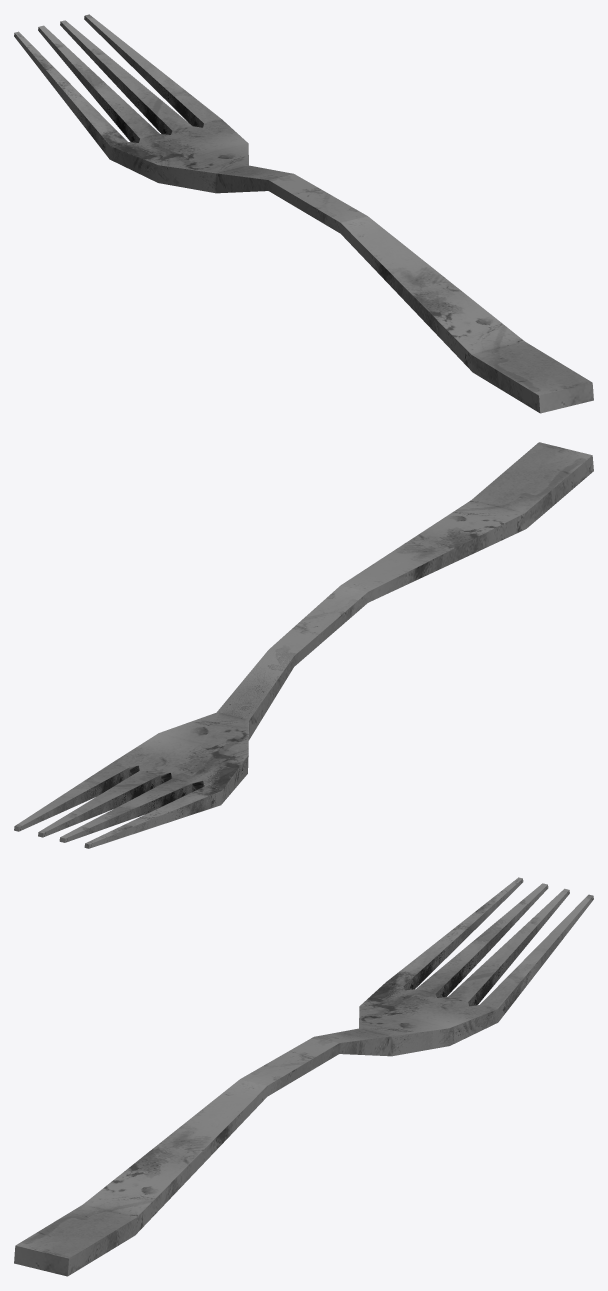
Rendered from Trash_Fork_Final(LowPoly).fbx.
The picture shows the model from 3 angles, top to bottom: view 1: azimuth 30°, elevation 25°; view 2: azimuth 150°, elevation 25°; view 3: azimuth 330°, elevation 25°; orthographic projection.
Parts seen in each view (by area): view 1: fork_001; view 2: fork_001; view 3: fork_001.
Boxes of the visible parts, box(x1,y1,x2,y2) form: fork_001: box(14, 14, 593, 413); fork_001: box(14, 442, 593, 848); fork_001: box(14, 877, 593, 1276).
Size of the model in its own units: 1.83 by 1.03 by 14.69.
1 material, 1 textured.
